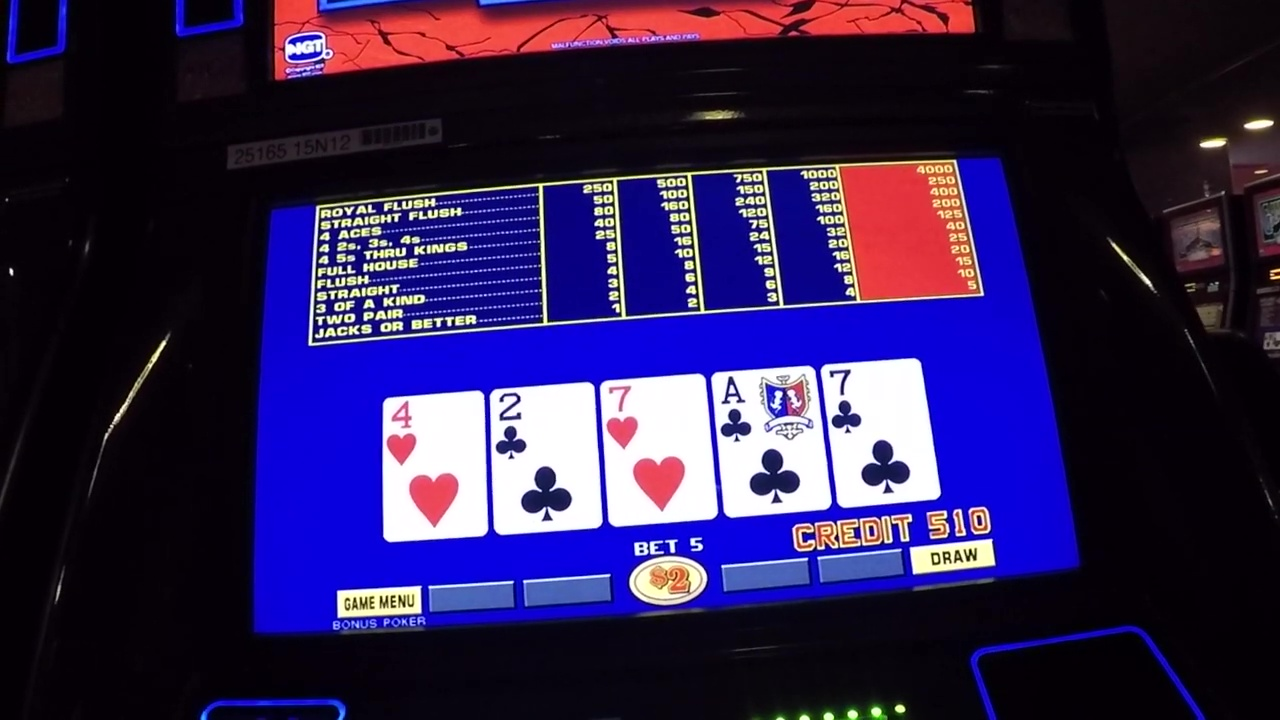C2: (494, 393, 593, 463)
C7: (830, 370, 923, 439)
CA: (717, 372, 818, 449)
H4: (385, 400, 486, 466)
H7: (603, 387, 707, 454)
